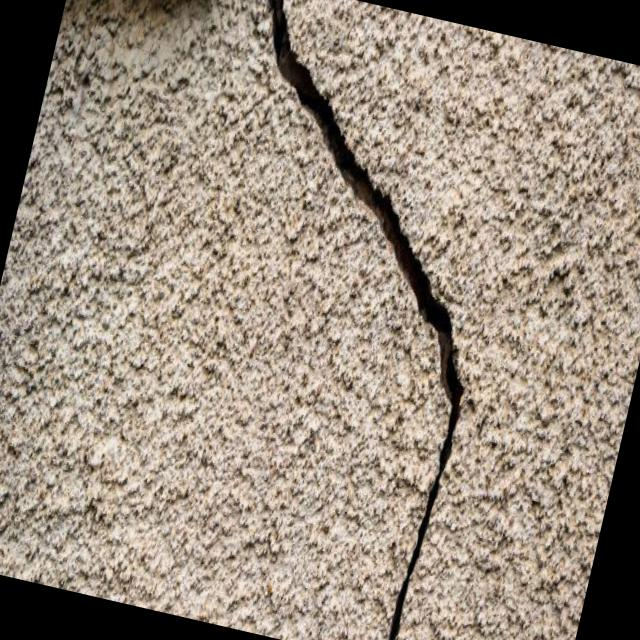crack: (266, 0, 463, 640)
